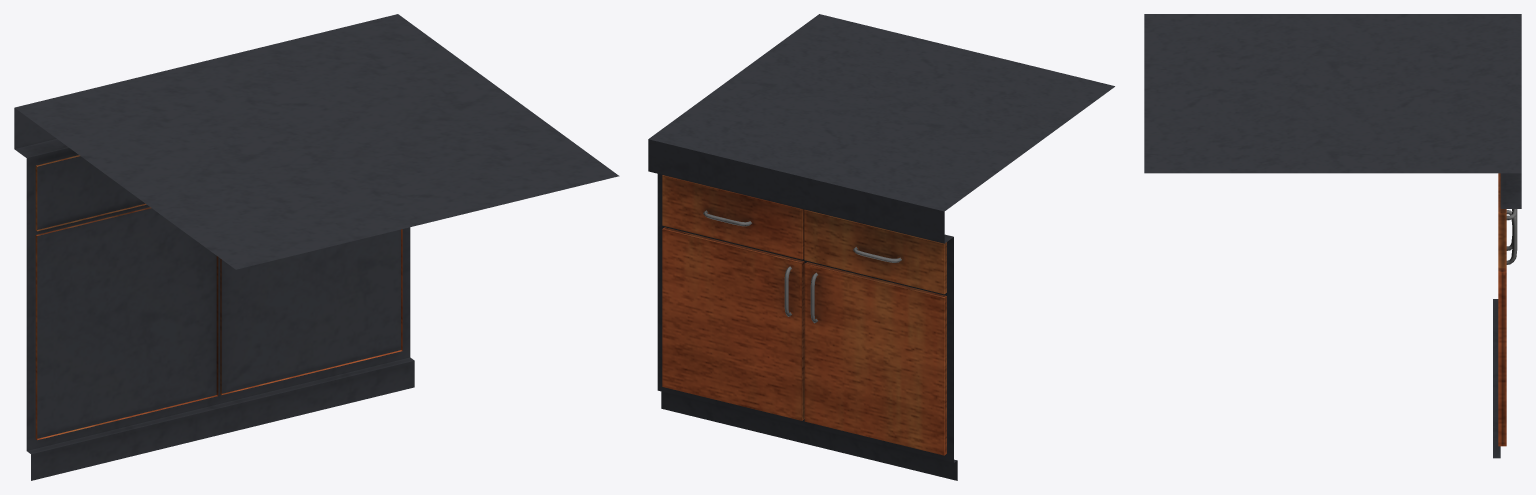
Rendered from CounterBasicV2.fbx.
The picture shows the model from 3 angles, left to right: view 1: azimuth 30°, elevation 25°; view 2: azimuth 150°, elevation 25°; view 3: azimuth 270°, elevation 25°; orthographic projection. The views are drawn at different scales.
Visible parts, largest first — view 1: CounterBasicV2; view 2: CounterBasicV2; view 3: CounterBasicV2.
Boxes of the visible parts, <box> form: CounterBasicV2: <box>14,14,619,480</box>; CounterBasicV2: <box>648,14,1114,480</box>; CounterBasicV2: <box>1144,14,1521,458</box>.
Size of the model in its own units: 152 by 137 by 152.
